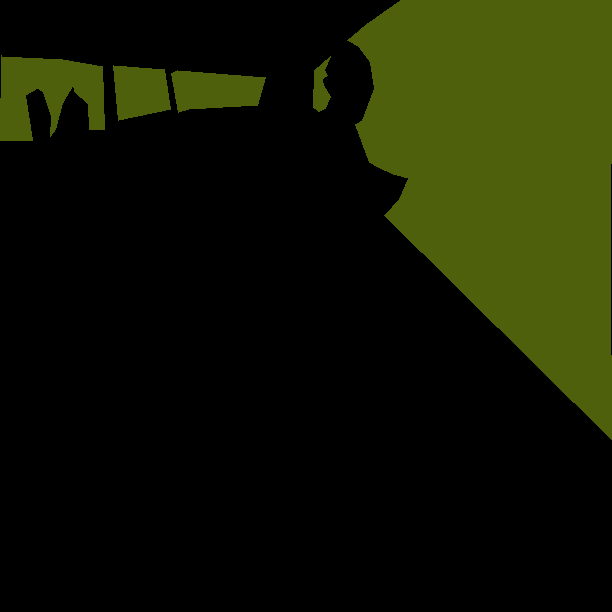Train: (313, 0, 612, 440), (0, 55, 265, 141)
